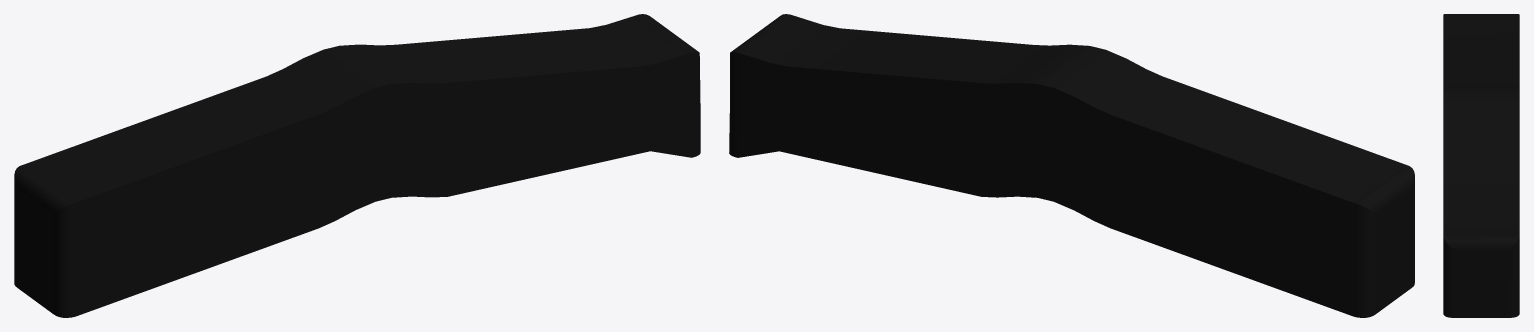
Rendered from piano_hammer.obj.
3 views of the same model, side by side, from view 1: azimuth 30°, elevation 25°; view 2: azimuth 150°, elevation 25°; view 3: azimuth 270°, elevation 25° (orthographic). The views are drawn at different scales.
Parts seen in each view (by area): view 1: BabyGrandPiano1.103_BabyGrandPiano1.303; view 2: BabyGrandPiano1.103_BabyGrandPiano1.303; view 3: BabyGrandPiano1.103_BabyGrandPiano1.303.
Part boxes in pixels (x1=…): BabyGrandPiano1.103_BabyGrandPiano1.303: x1=14, y1=14, x2=700, y2=317; BabyGrandPiano1.103_BabyGrandPiano1.303: x1=729, y1=14, x2=1414, y2=317; BabyGrandPiano1.103_BabyGrandPiano1.303: x1=1443, y1=14, x2=1519, y2=317.
Bounding box in the file's own units: 5.98 × 1.38 × 0.8397.
Materials: 1 (1 with a texture image).
